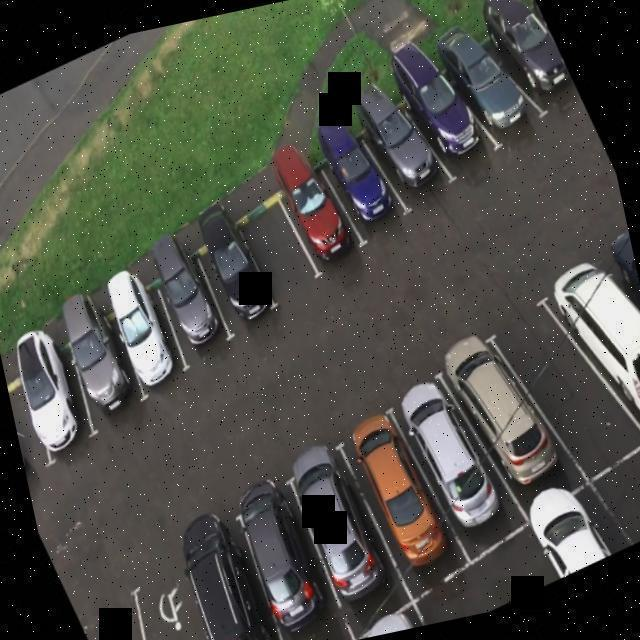space-empty: (491, 287, 640, 507), (218, 170, 340, 343), (97, 538, 237, 640), (583, 426, 640, 550), (73, 587, 172, 640)
space-occupied: (267, 421, 416, 640), (330, 391, 468, 603), (438, 323, 578, 530), (387, 374, 516, 573), (218, 467, 356, 640), (153, 491, 305, 640), (256, 124, 379, 302), (543, 237, 640, 458), (39, 287, 165, 455), (131, 226, 249, 386), (436, 15, 545, 176), (95, 260, 206, 415), (347, 73, 453, 234), (391, 43, 495, 200), (182, 196, 287, 347), (304, 107, 411, 253), (3, 331, 106, 478), (479, 0, 585, 133), (512, 470, 627, 586), (5, 366, 73, 506), (605, 212, 640, 423), (343, 605, 431, 640)
